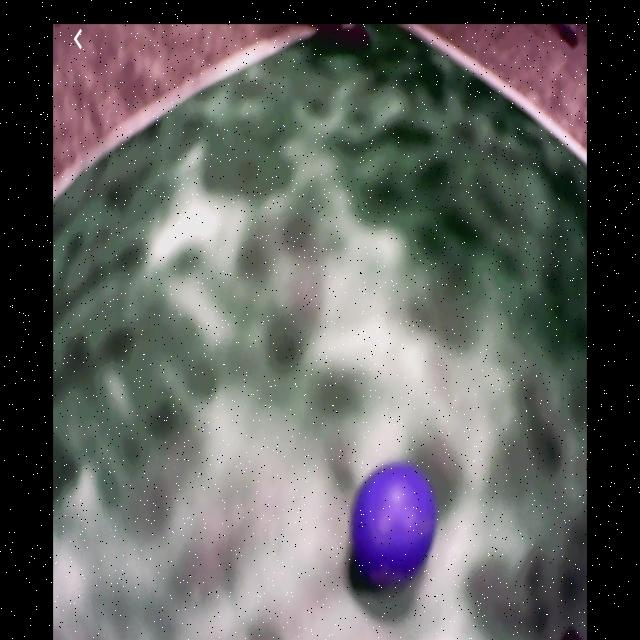ball: (350, 463, 436, 580)
